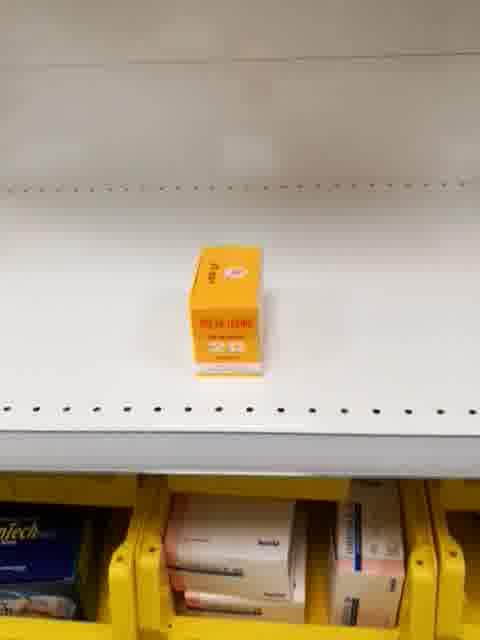jasminetea: (185, 242, 268, 381)
